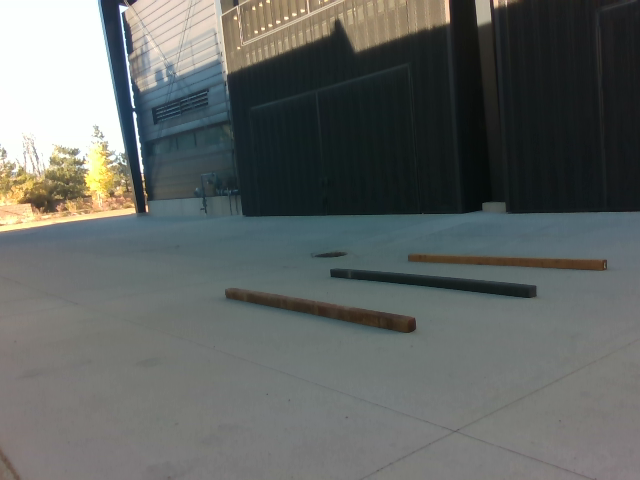dunnage: (210, 249, 611, 340)
